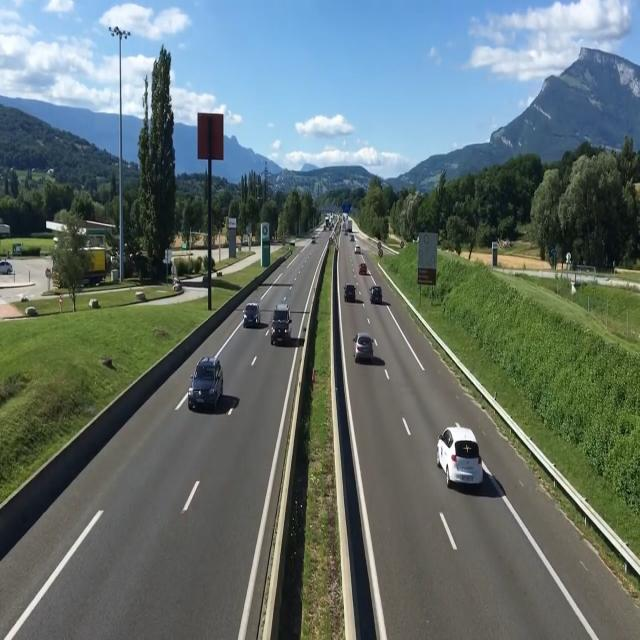car: (441, 427, 486, 501), (189, 351, 231, 416), (270, 292, 295, 350), (240, 297, 262, 337), (357, 334, 378, 368), (345, 274, 359, 304), (370, 279, 384, 307), (358, 255, 369, 278)
